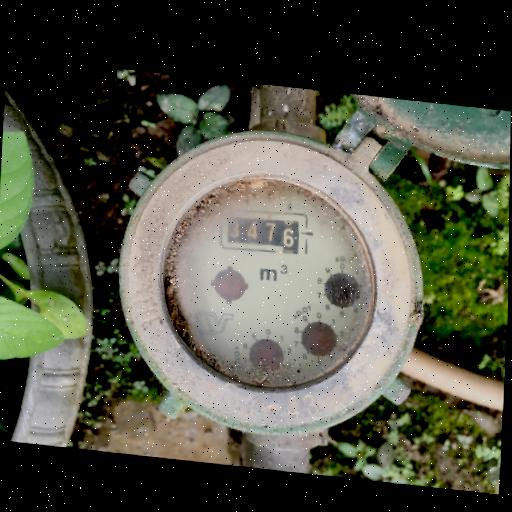3: (226, 217, 245, 244)
4: (245, 217, 264, 245)
6: (281, 220, 300, 255)
7: (262, 218, 281, 246)
border_water_meter_number: (218, 204, 309, 259)
